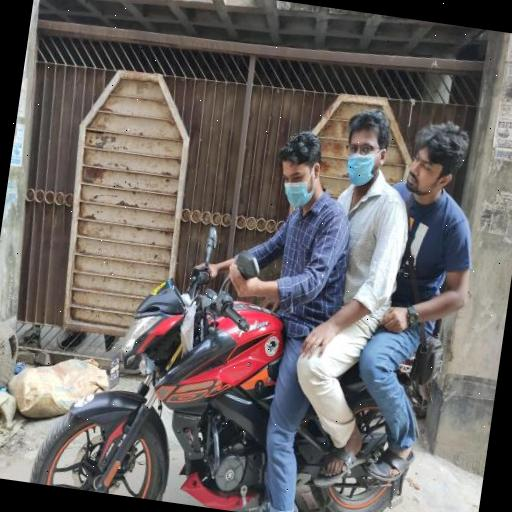no helmet: (252, 116, 341, 224)
triple riding: (44, 58, 512, 512)
